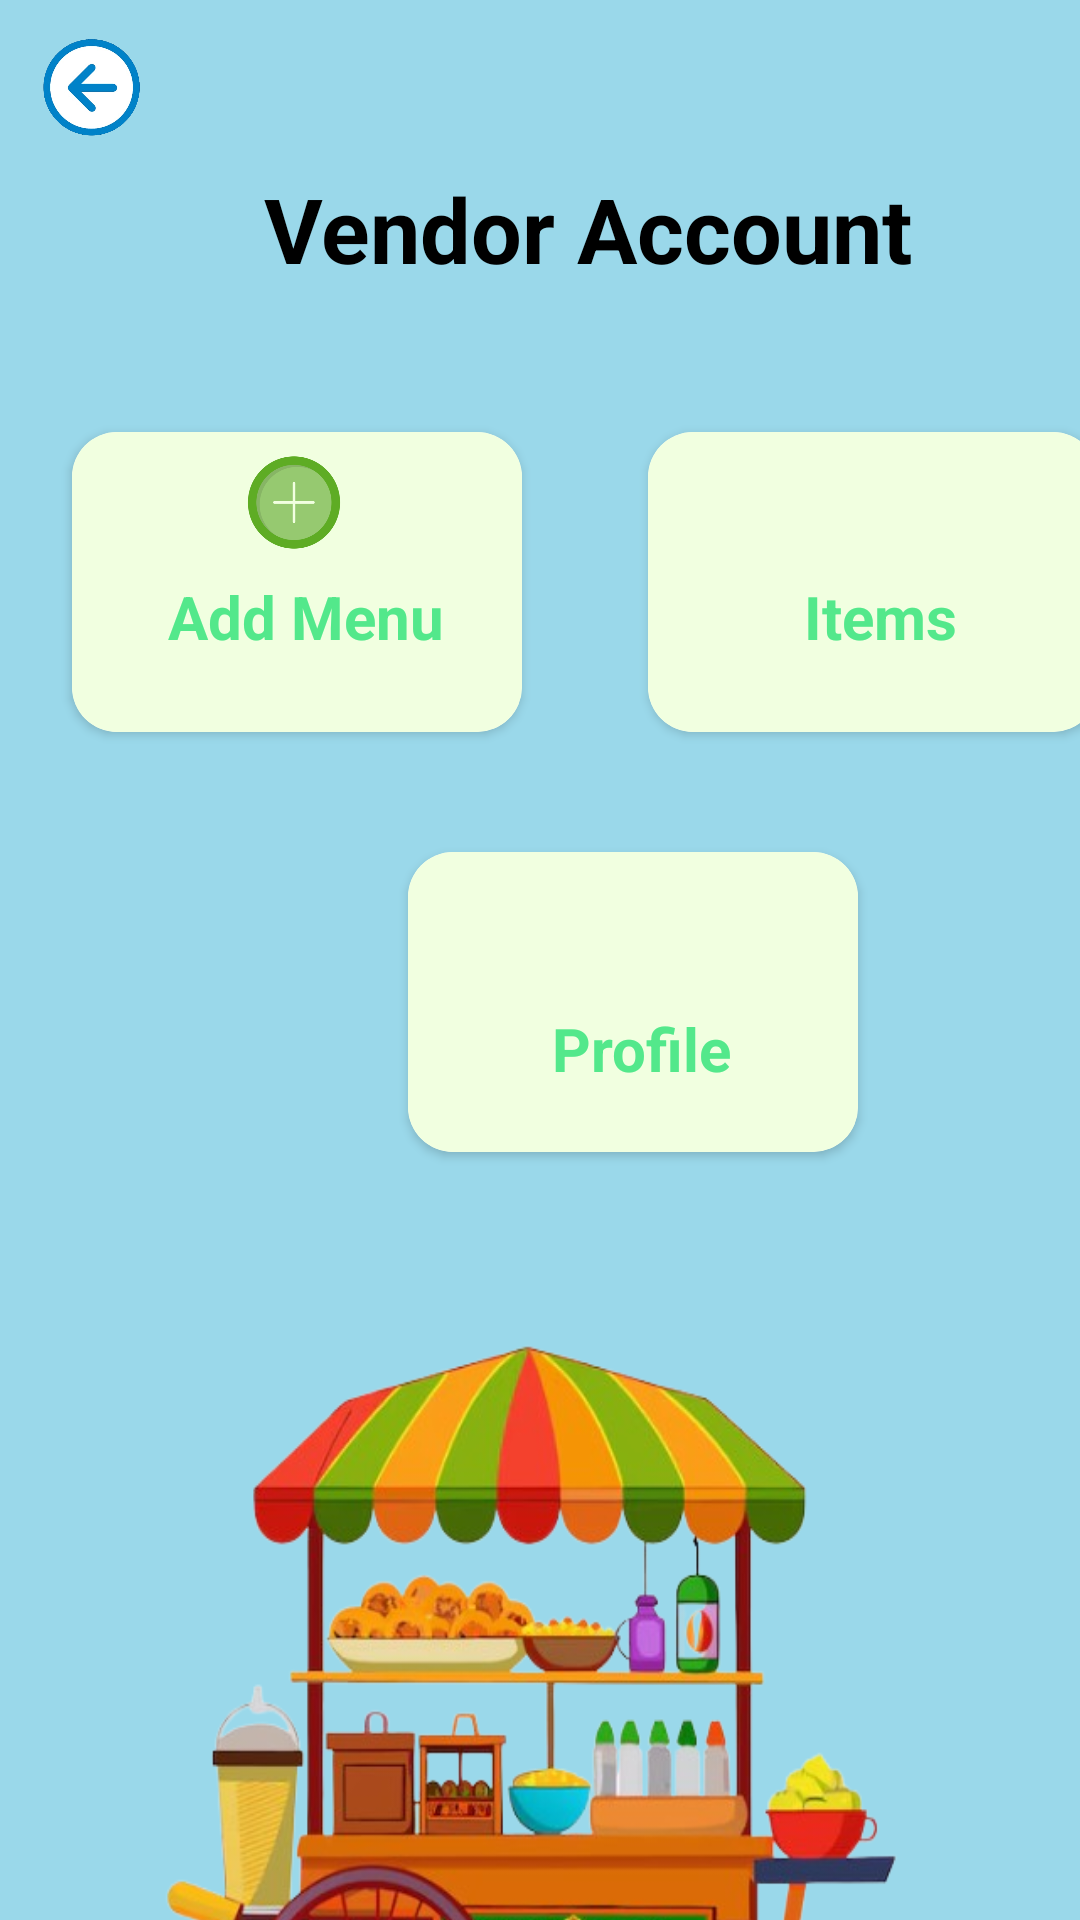

Named icons in this screenshot (1080×1920) and their bounding boxes, (x1, y1, x2, y2):
backbuttonn: (43, 39, 140, 136)
pluss: (248, 456, 340, 549)
